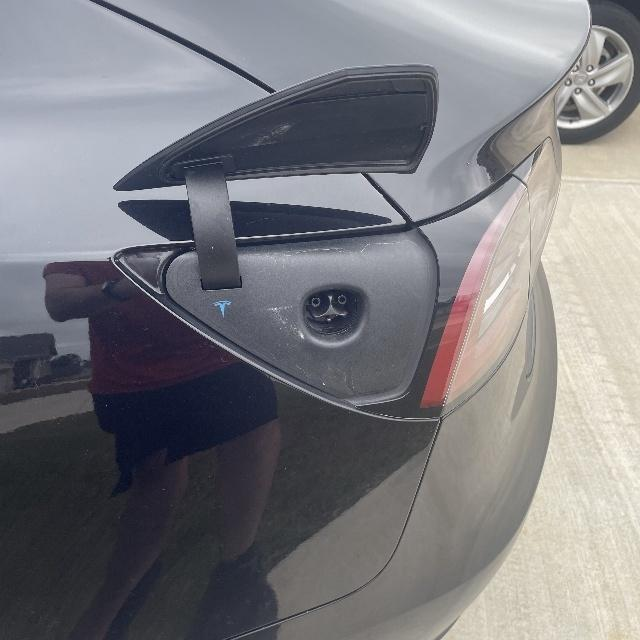Tesla Model-S-: (286, 279, 389, 357)
